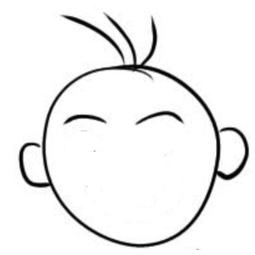ear: (211, 122, 250, 185), (15, 137, 55, 191)
eyebrow: (58, 109, 112, 132), (130, 109, 189, 126)
